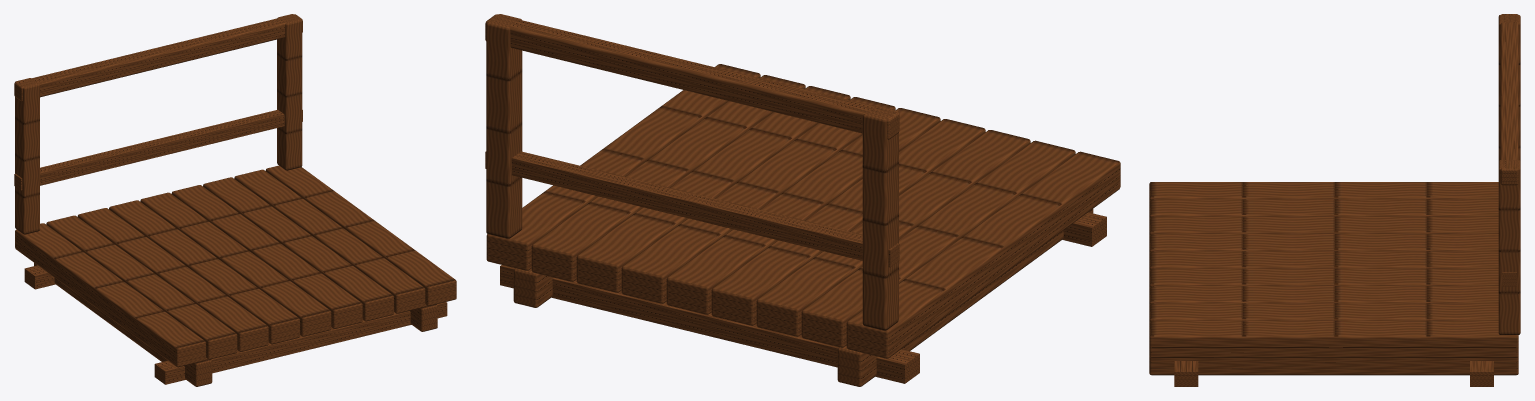
Rendered from modular-survival-base-builder-stair-landing-e97b2b43__24199.glb.
3 views of the same model, side by side, from view 1: azimuth 30°, elevation 25°; view 2: azimuth 150°, elevation 25°; view 3: azimuth 270°, elevation 25° (orthographic). The views are drawn at different scales.
Parts seen in each view (by area): view 1: stair-landing; view 2: stair-landing; view 3: stair-landing.
Boxes of the visible parts, x1,y1,x2,y2 form: stair-landing: [14, 14, 456, 386]; stair-landing: [485, 14, 1120, 386]; stair-landing: [1149, 14, 1520, 386].
Bounding box in the file's own units: 2 × 1.3 × 2.01.
Materials: 1 (1 with a texture image).
